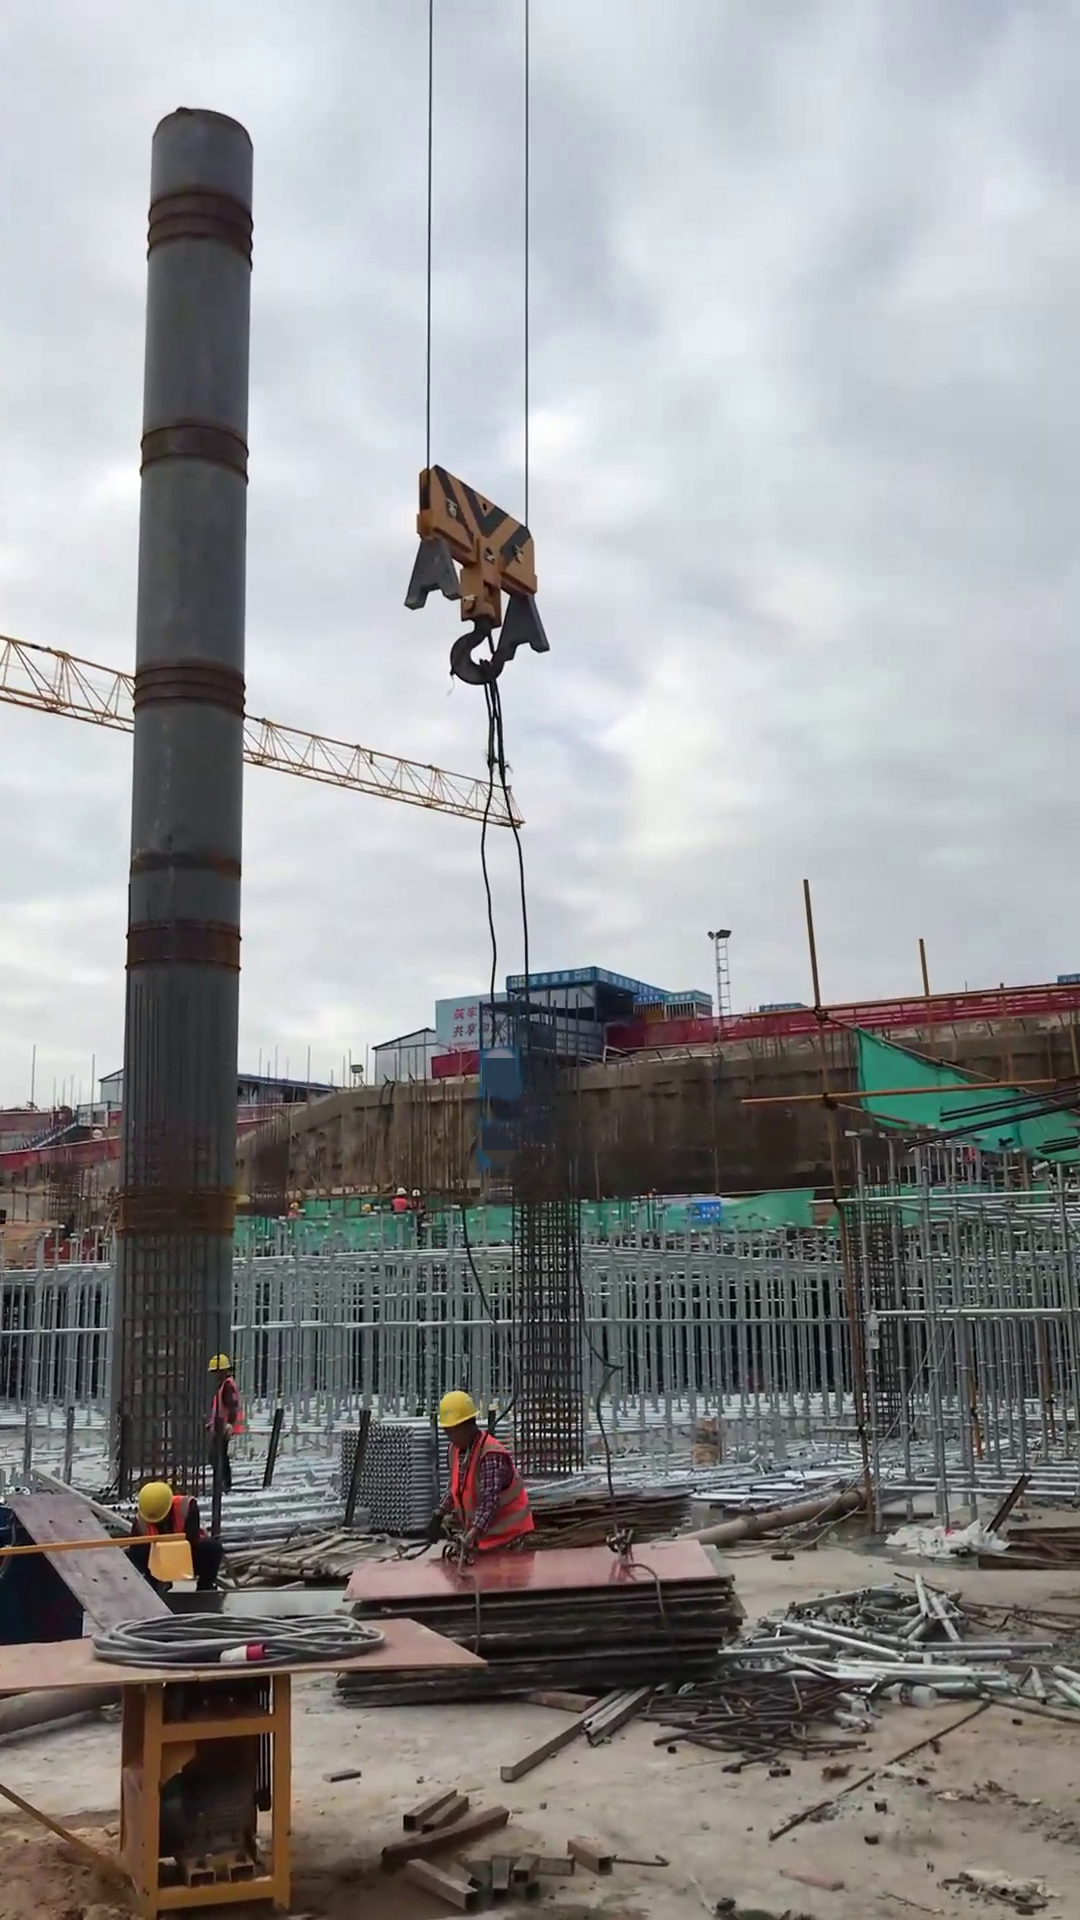board: (335, 1533, 754, 1710)
helmet: (428, 1390, 481, 1436), (130, 1473, 166, 1517)
hook: (401, 453, 553, 684)
person: (428, 1390, 542, 1561), (131, 1483, 215, 1588), (200, 1338, 243, 1491)
scaffold: (328, 1418, 465, 1529)
vest: (438, 1438, 531, 1542)
